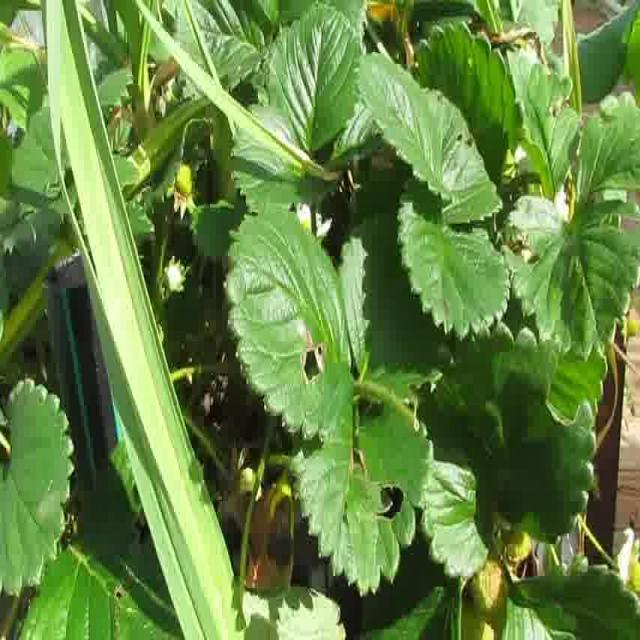Fruta sana: (470, 560, 508, 640), (456, 593, 497, 640), (501, 512, 538, 564)
